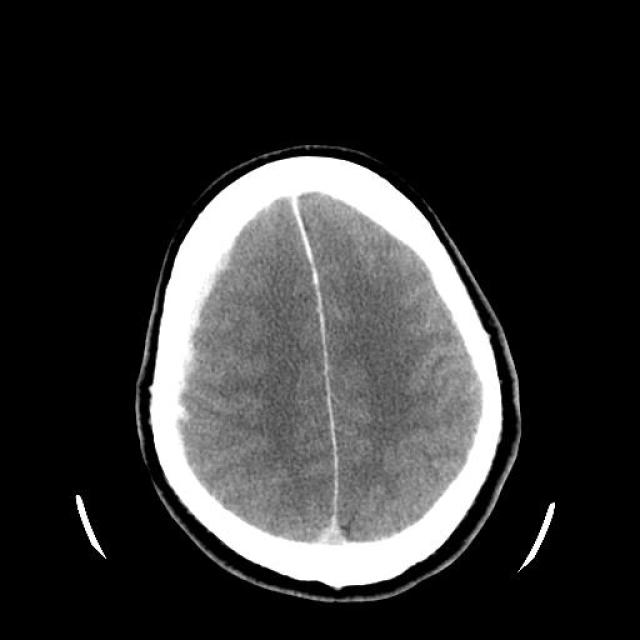Subdural: (132, 204, 262, 440)
